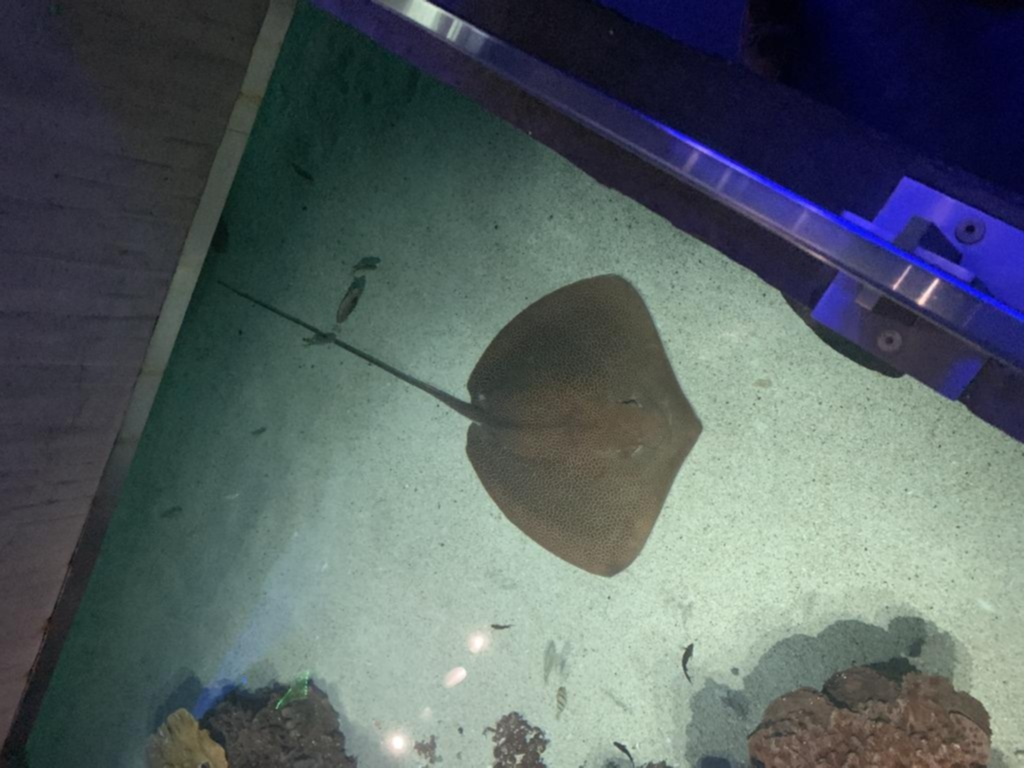fish: (335, 284, 359, 324), (611, 738, 637, 768), (548, 685, 570, 717), (681, 642, 695, 684), (486, 616, 512, 638)
stingray: (465, 272, 703, 578)
